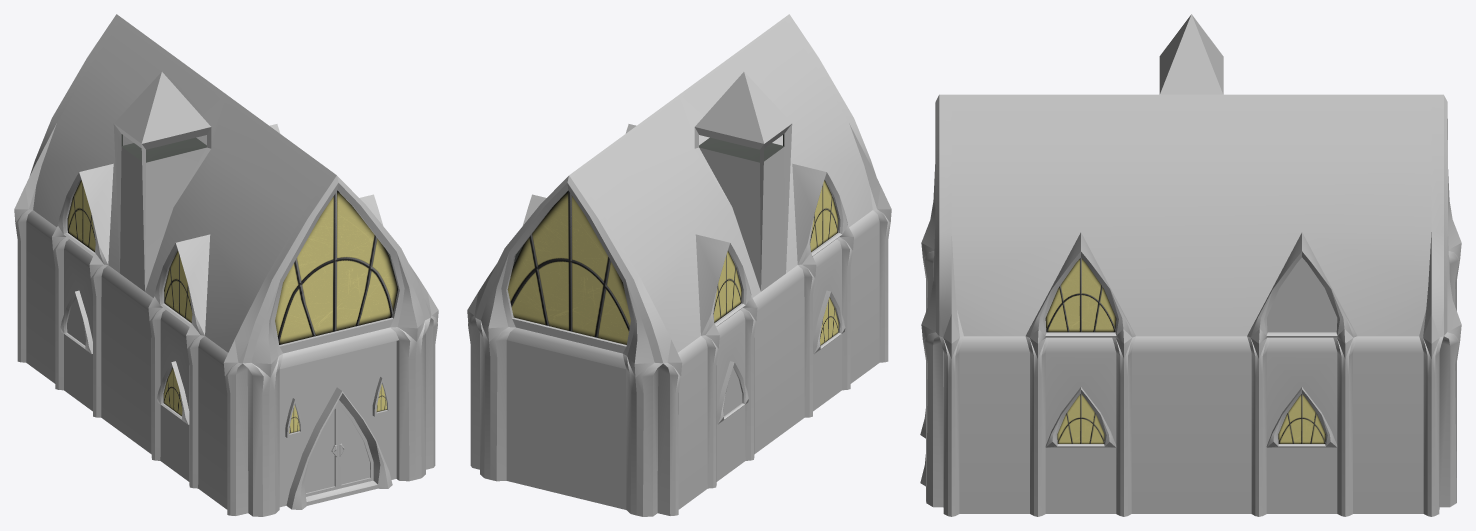
Rendered from ruraltown_house_standard.fbx.
3 renders of one model, left to right at view 1: azimuth 30°, elevation 25°; view 2: azimuth 150°, elevation 25°; view 3: azimuth 270°, elevation 25°, orthographic. The views are drawn at different scales.
Visible parts, largest first — view 1: ruraltown_house_standard; view 2: ruraltown_house_standard; view 3: ruraltown_house_standard.
Boxes of the visible parts, left/top/right/bottom form: ruraltown_house_standard: left=14, top=14, right=438, bottom=516; ruraltown_house_standard: left=467, top=14, right=891, bottom=516; ruraltown_house_standard: left=920, top=14, right=1461, bottom=516.
Size of the model in its own units: 5.88 by 9.32 by 11.19.
